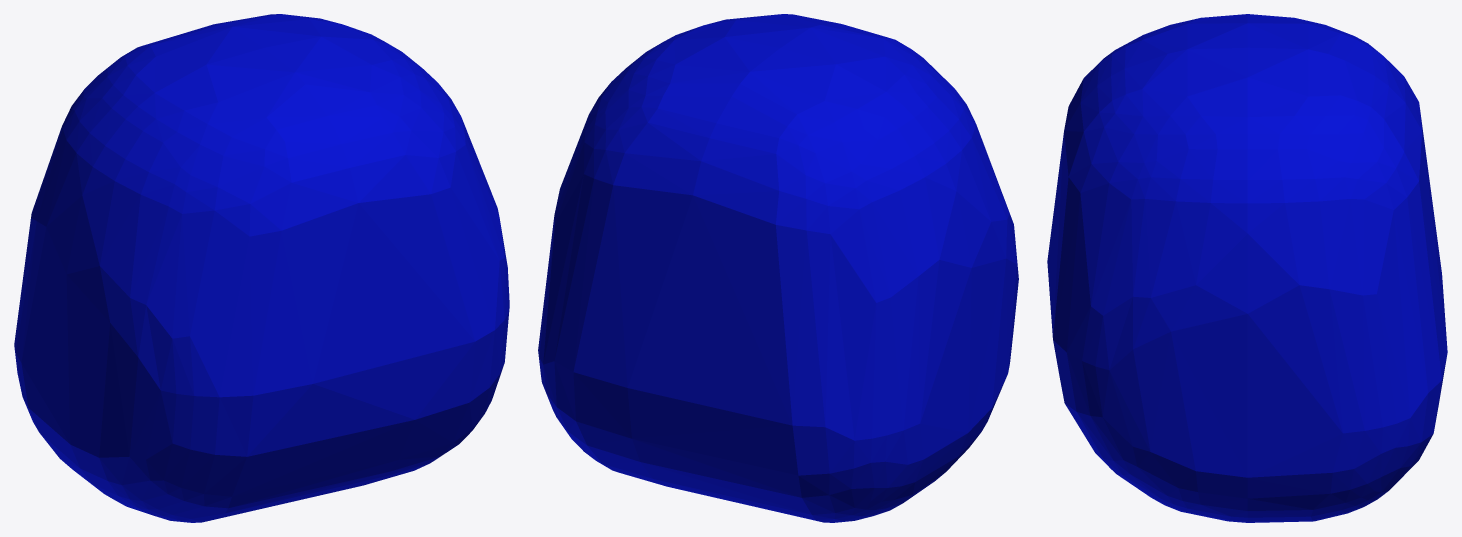
File: COL_hollie_real_008_collision.dae
3 renders of one model, left to right at view 1: azimuth 30°, elevation 25°; view 2: azimuth 150°, elevation 25°; view 3: azimuth 270°, elevation 25°, orthographic. The views are drawn at different scales.
Visible parts, largest first — view 1: COL_hollie_real_008_collision; view 2: COL_hollie_real_008_collision; view 3: COL_hollie_real_008_collision.
Boxes of the visible parts, left/top/right/bottom form: COL_hollie_real_008_collision: left=14, top=14, right=509, bottom=522; COL_hollie_real_008_collision: left=538, top=14, right=1018, bottom=522; COL_hollie_real_008_collision: left=1047, top=14, right=1447, bottom=522.
Size of the model in its own units: 0.0703 by 0.0638 by 0.0744.
